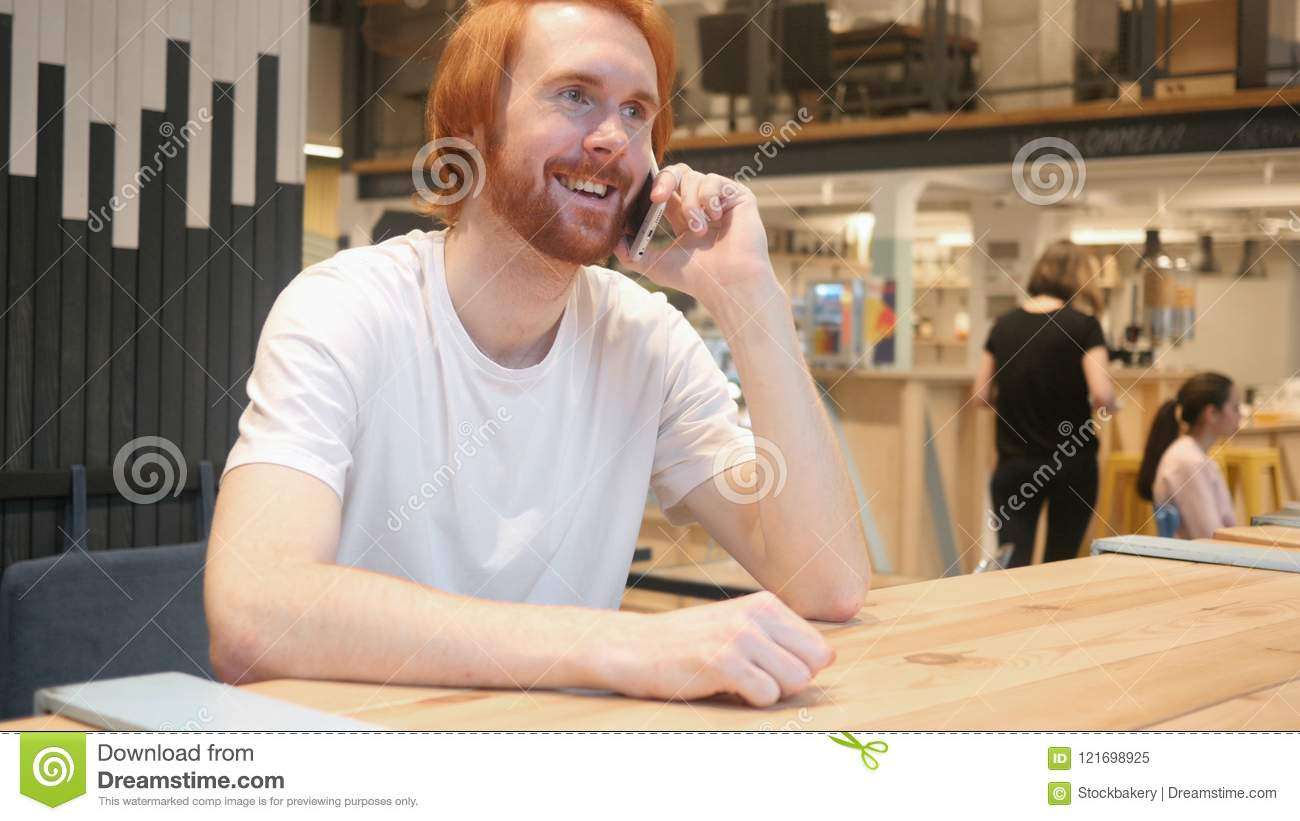phone: (626, 155, 666, 259)
talk: (528, 61, 777, 319)
